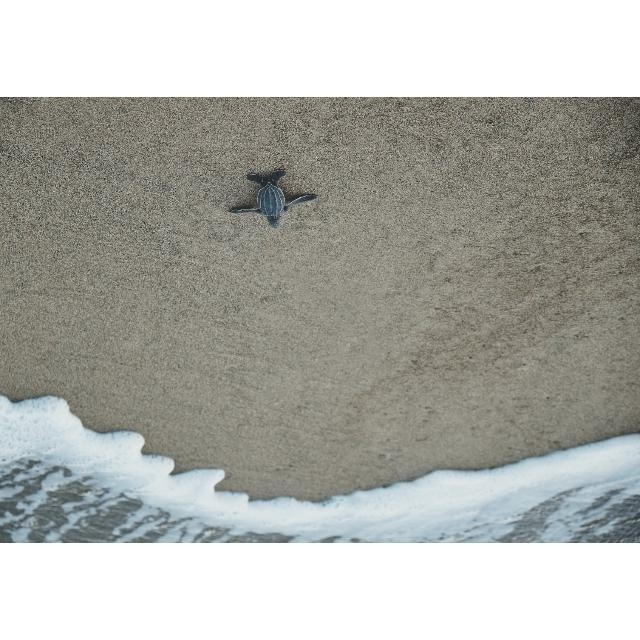turtle: (229, 168, 317, 229)
